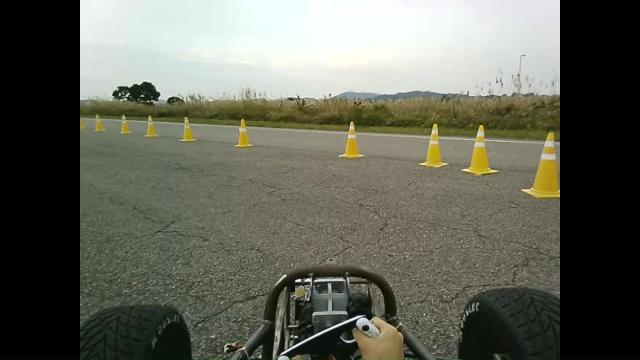yellow cone: (520, 131, 560, 198), (461, 124, 498, 175), (418, 123, 449, 168), (338, 120, 365, 159), (233, 118, 254, 148), (179, 116, 196, 142), (144, 115, 158, 137), (118, 114, 132, 134), (93, 113, 106, 132), (80, 118, 85, 130)
